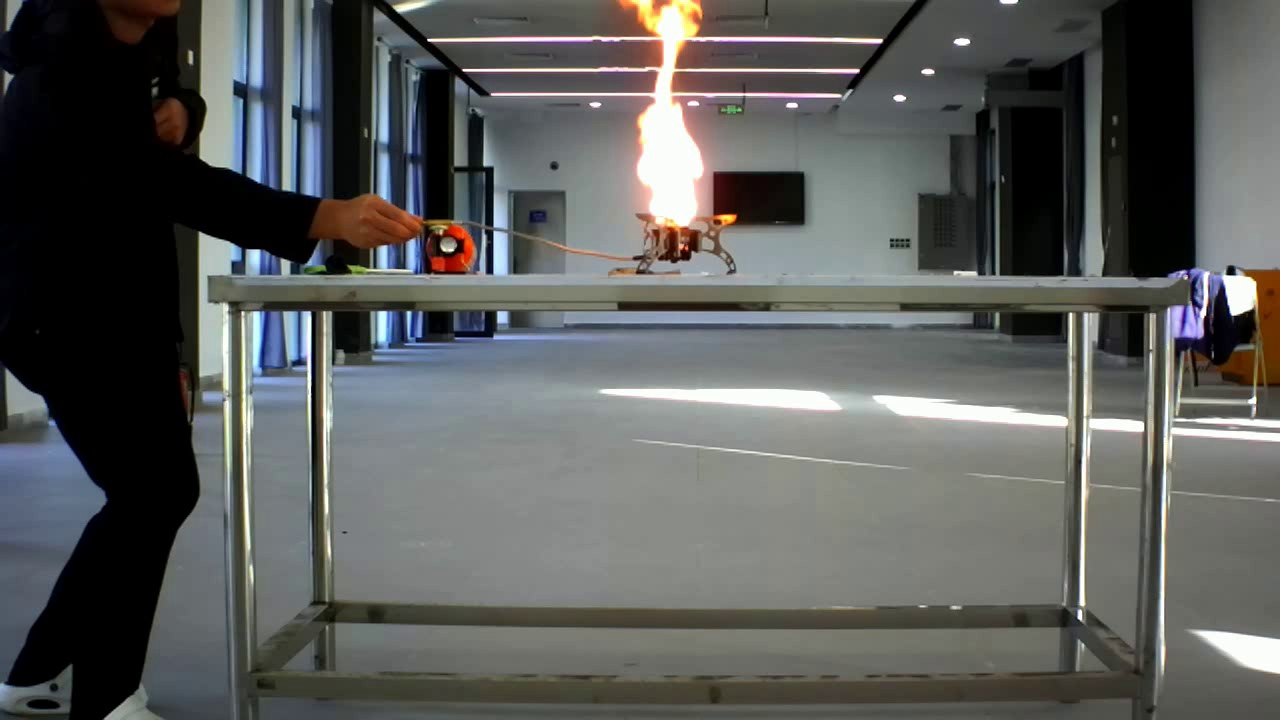Fire: (613, 0, 738, 263)
